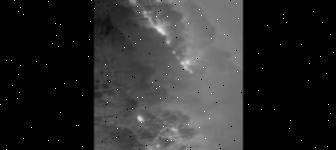fire: (96, 0, 202, 78), (110, 102, 190, 150)
